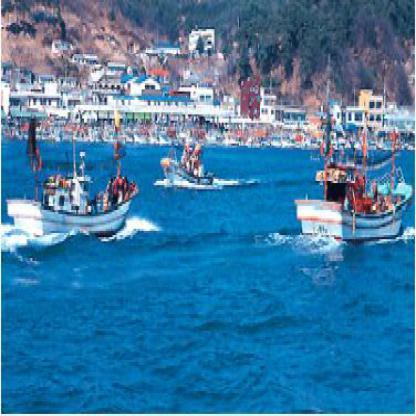Ship: (1, 151, 145, 251), (293, 138, 416, 255)
